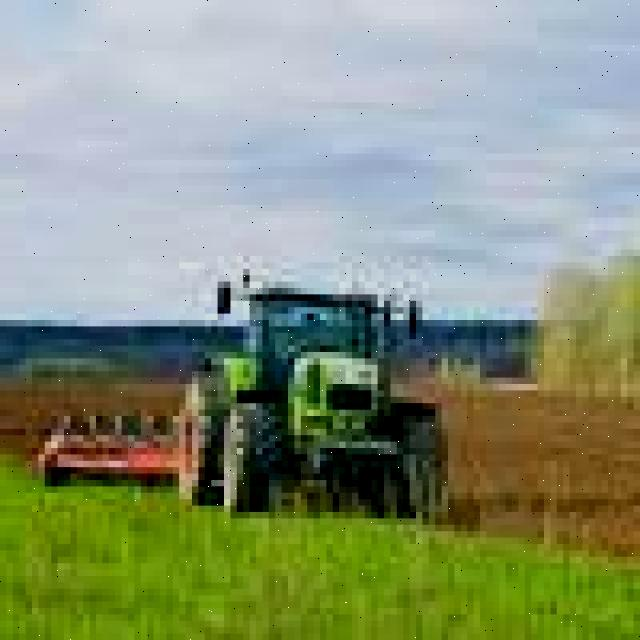Tratores - v5 YOLO V8L 2024-11-13: (182, 288, 448, 520)
